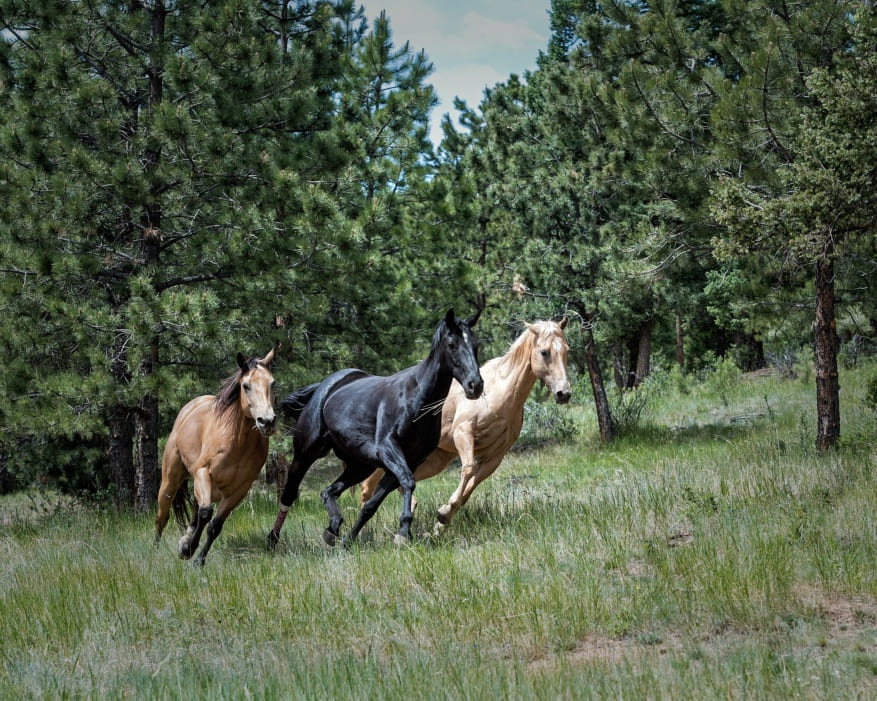horse: (270, 308, 486, 548), (349, 319, 571, 519), (155, 350, 278, 572)
